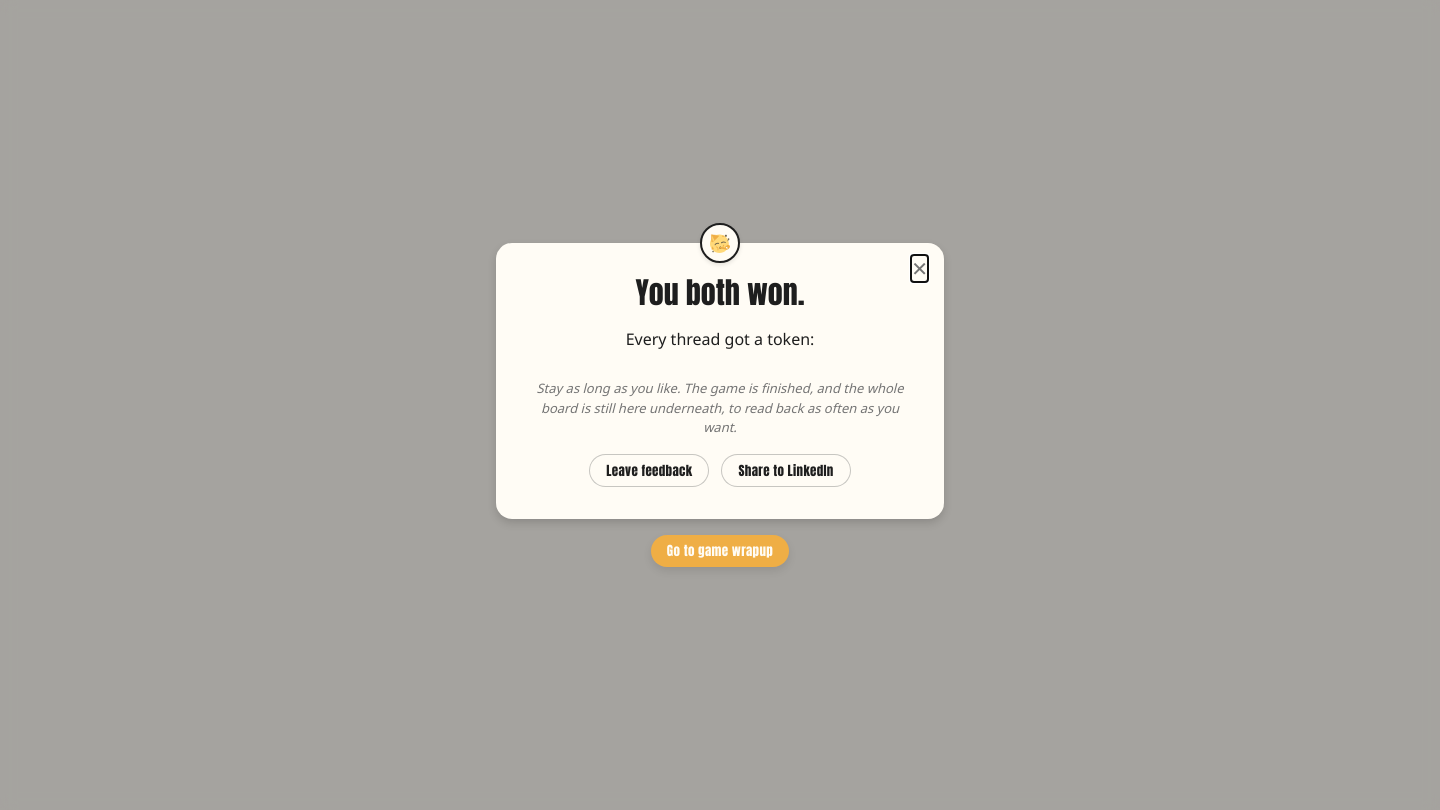
WinOverlay: buttons › with exitHref null, dismisses in place instead of linking anywhere
Click the button "Go to game wrapup": (720, 551) [651, 535, 789, 567]
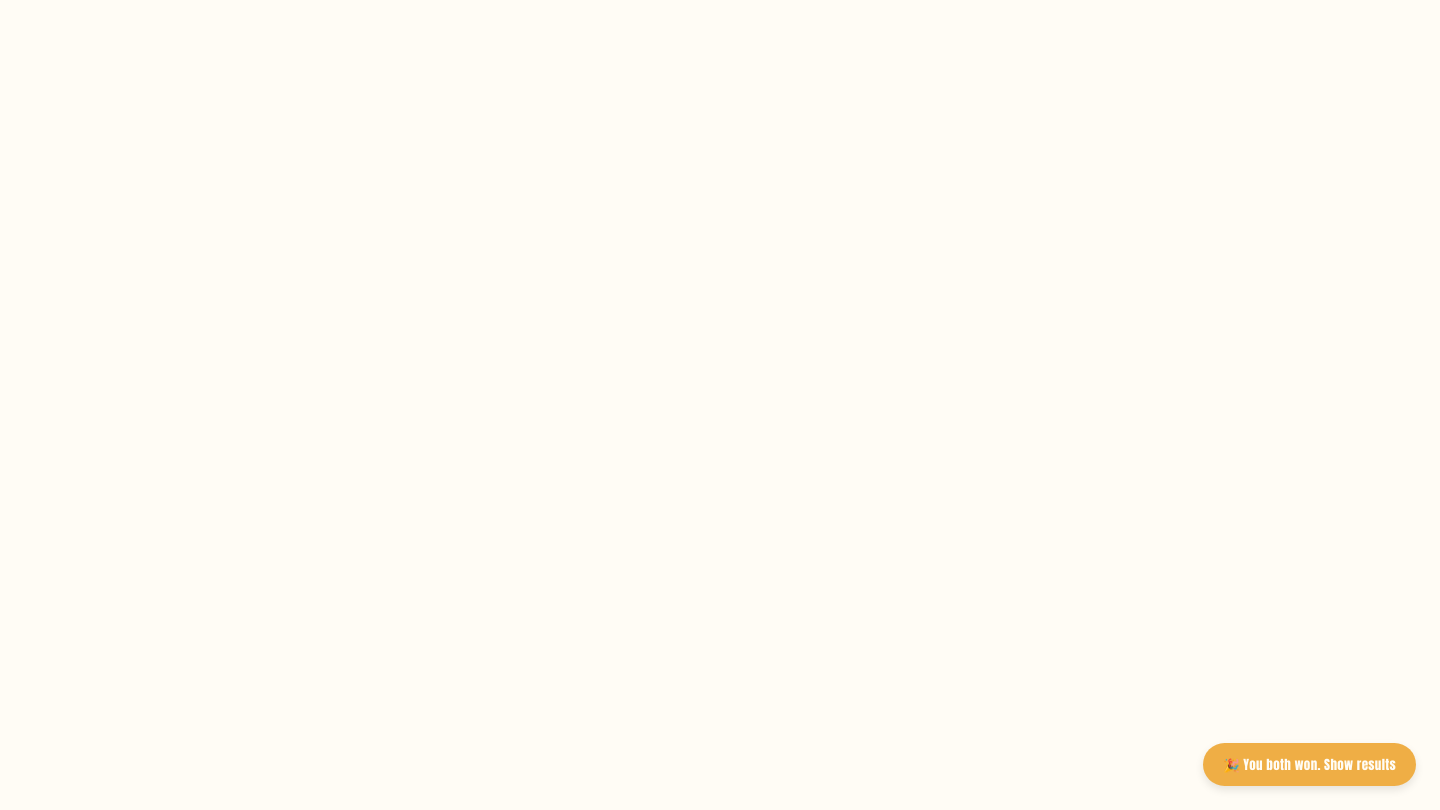
Result: the dialog is gone
Result: the button "🎉 You both won. Show results" is shown at [1203, 742, 1416, 786]
